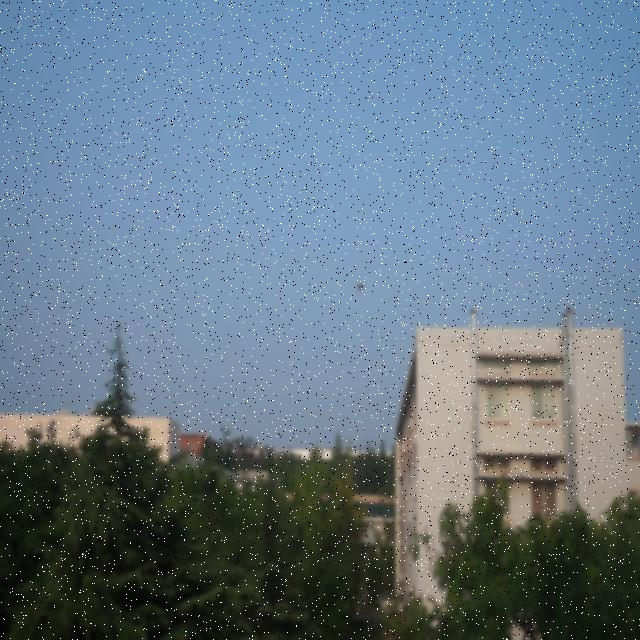UAV: (356, 282, 364, 293)
